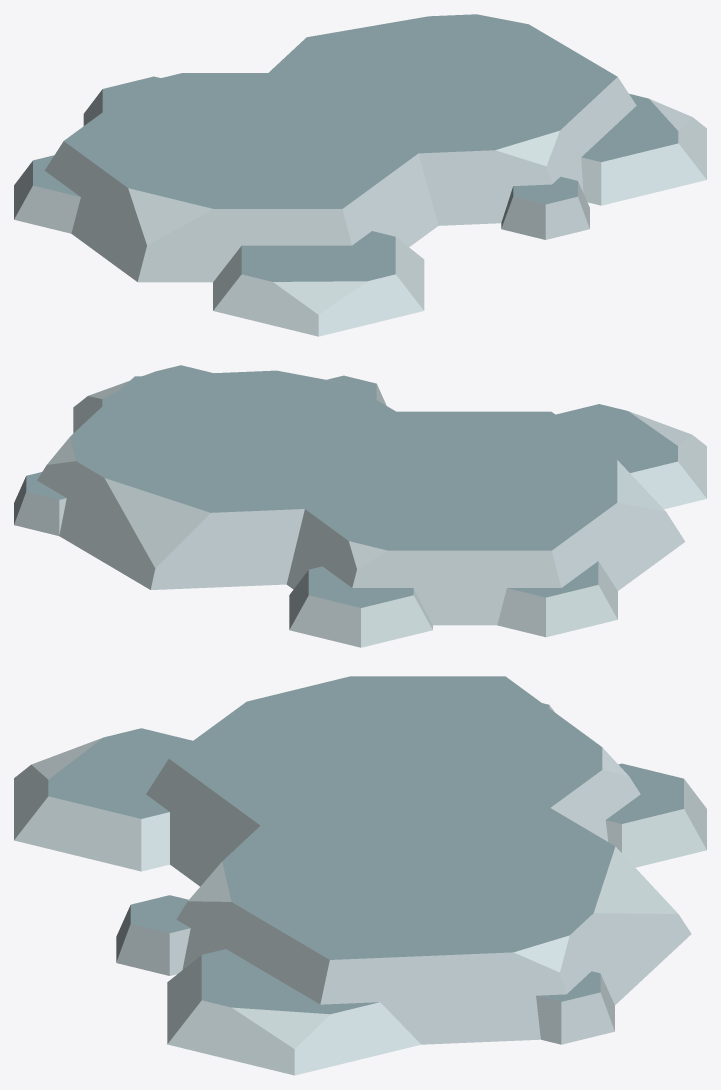
Rendered from platform_stone.glb.
3 renders of one model, top to bottom at view 1: azimuth 30°, elevation 25°; view 2: azimuth 150°, elevation 25°; view 3: azimuth 270°, elevation 25°, orthographic. The views are drawn at different scales.
Parts seen in each view (by area): view 1: platform_stone; view 2: platform_stone; view 3: platform_stone.
Part boxes in pixels (box(x1,y1,x2,y2)): platform_stone: box(14, 14, 706, 336); platform_stone: box(14, 365, 706, 647); platform_stone: box(14, 676, 706, 1075).
Size of the model in its own units: 0.8932 by 0.0825 by 0.7239.
